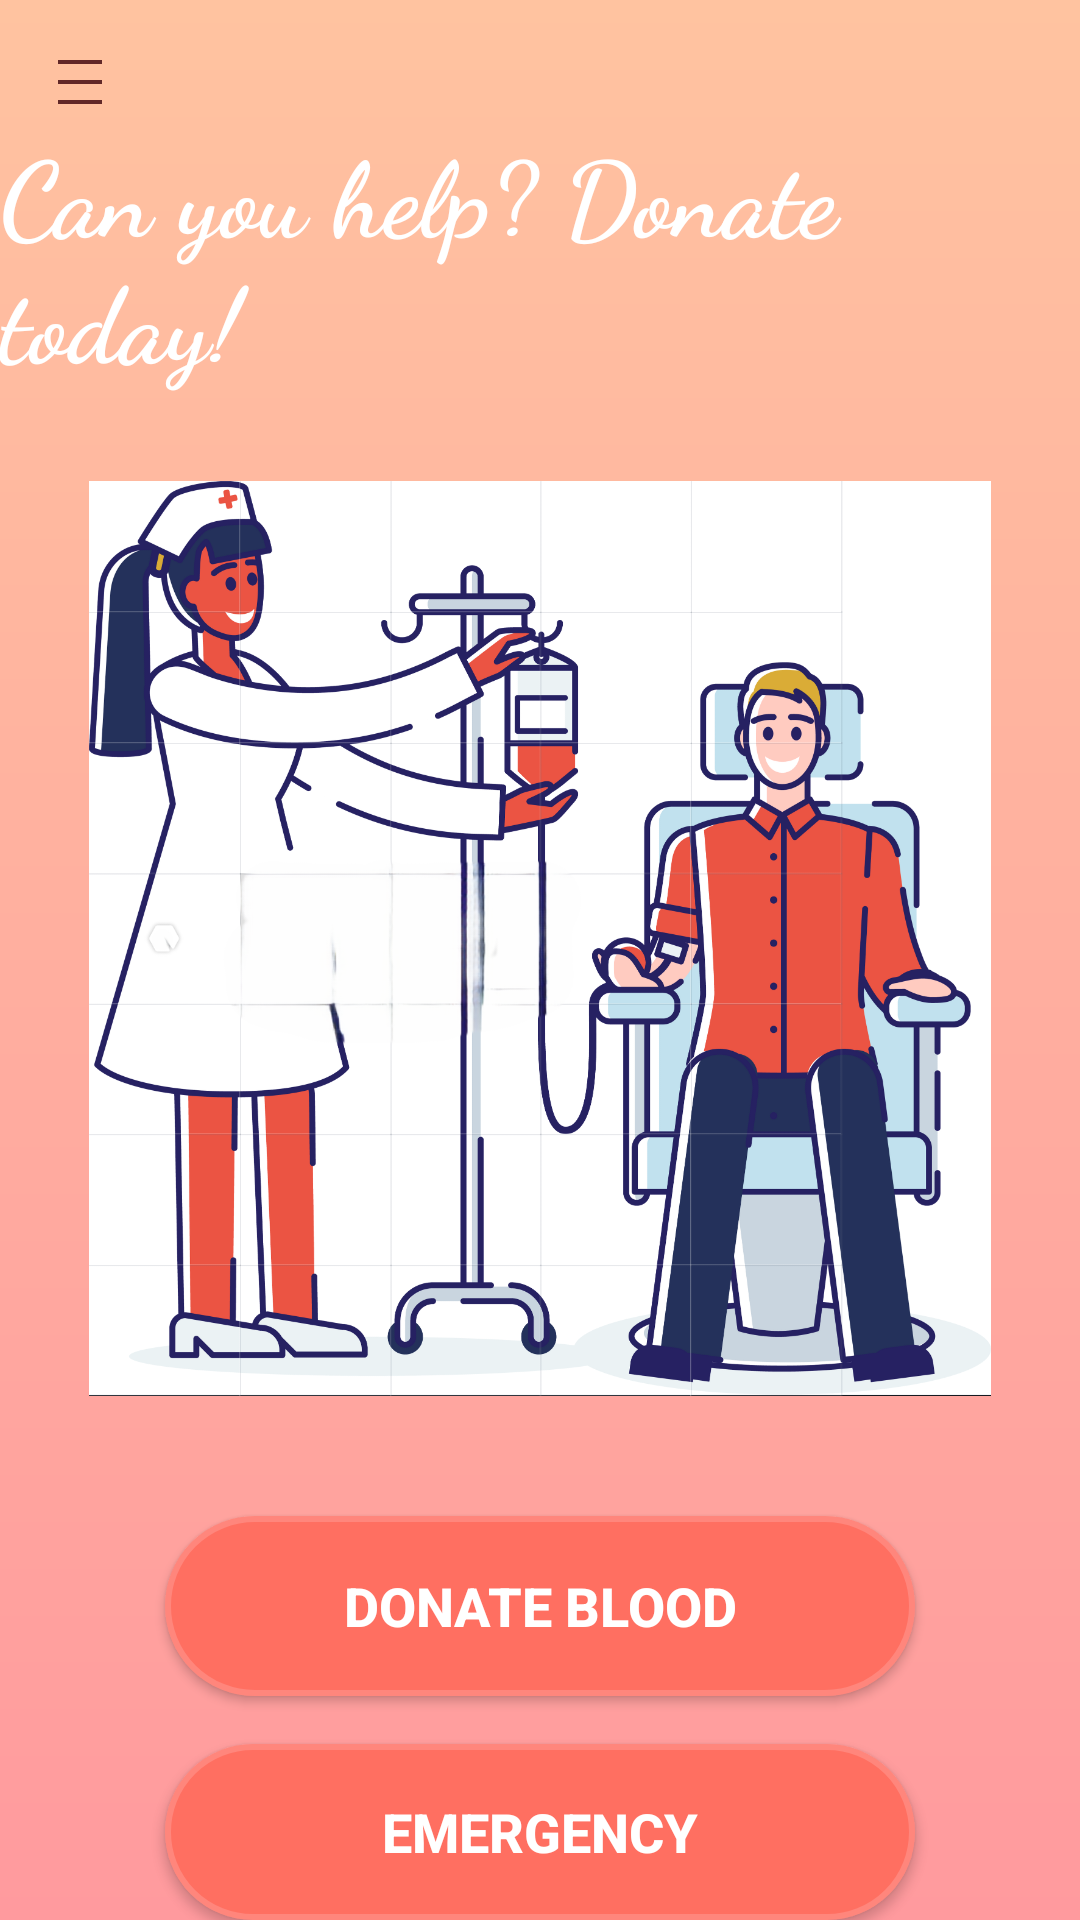

Locate icon controls on the screen. Image size 1080px×1920px, boxes as (x1, y1, x2, y2).
hamburger: (58, 60, 102, 104)
